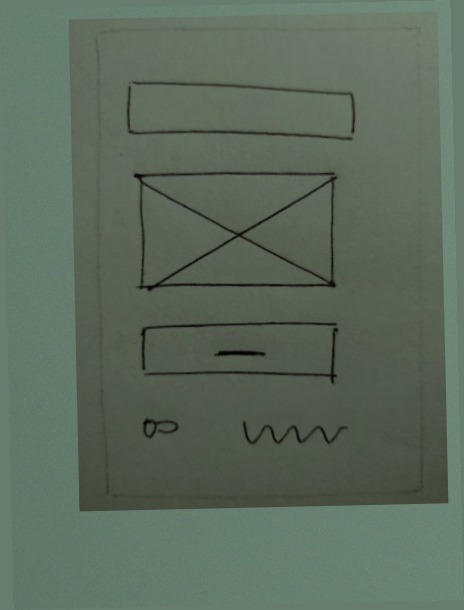button: (135, 313, 345, 394)
image: (126, 162, 343, 302)
switch: (131, 408, 189, 449)
text: (227, 412, 355, 456)
text_input: (120, 69, 362, 153)
